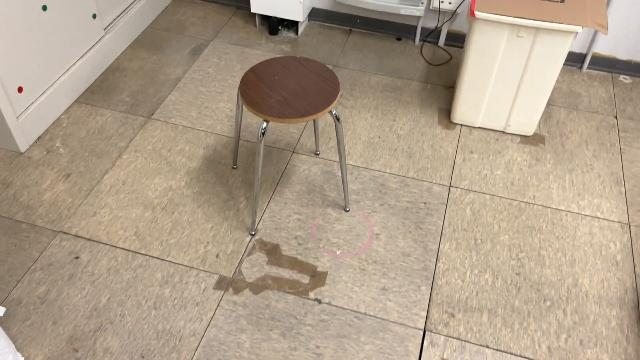Stool: (224, 50, 354, 240)
